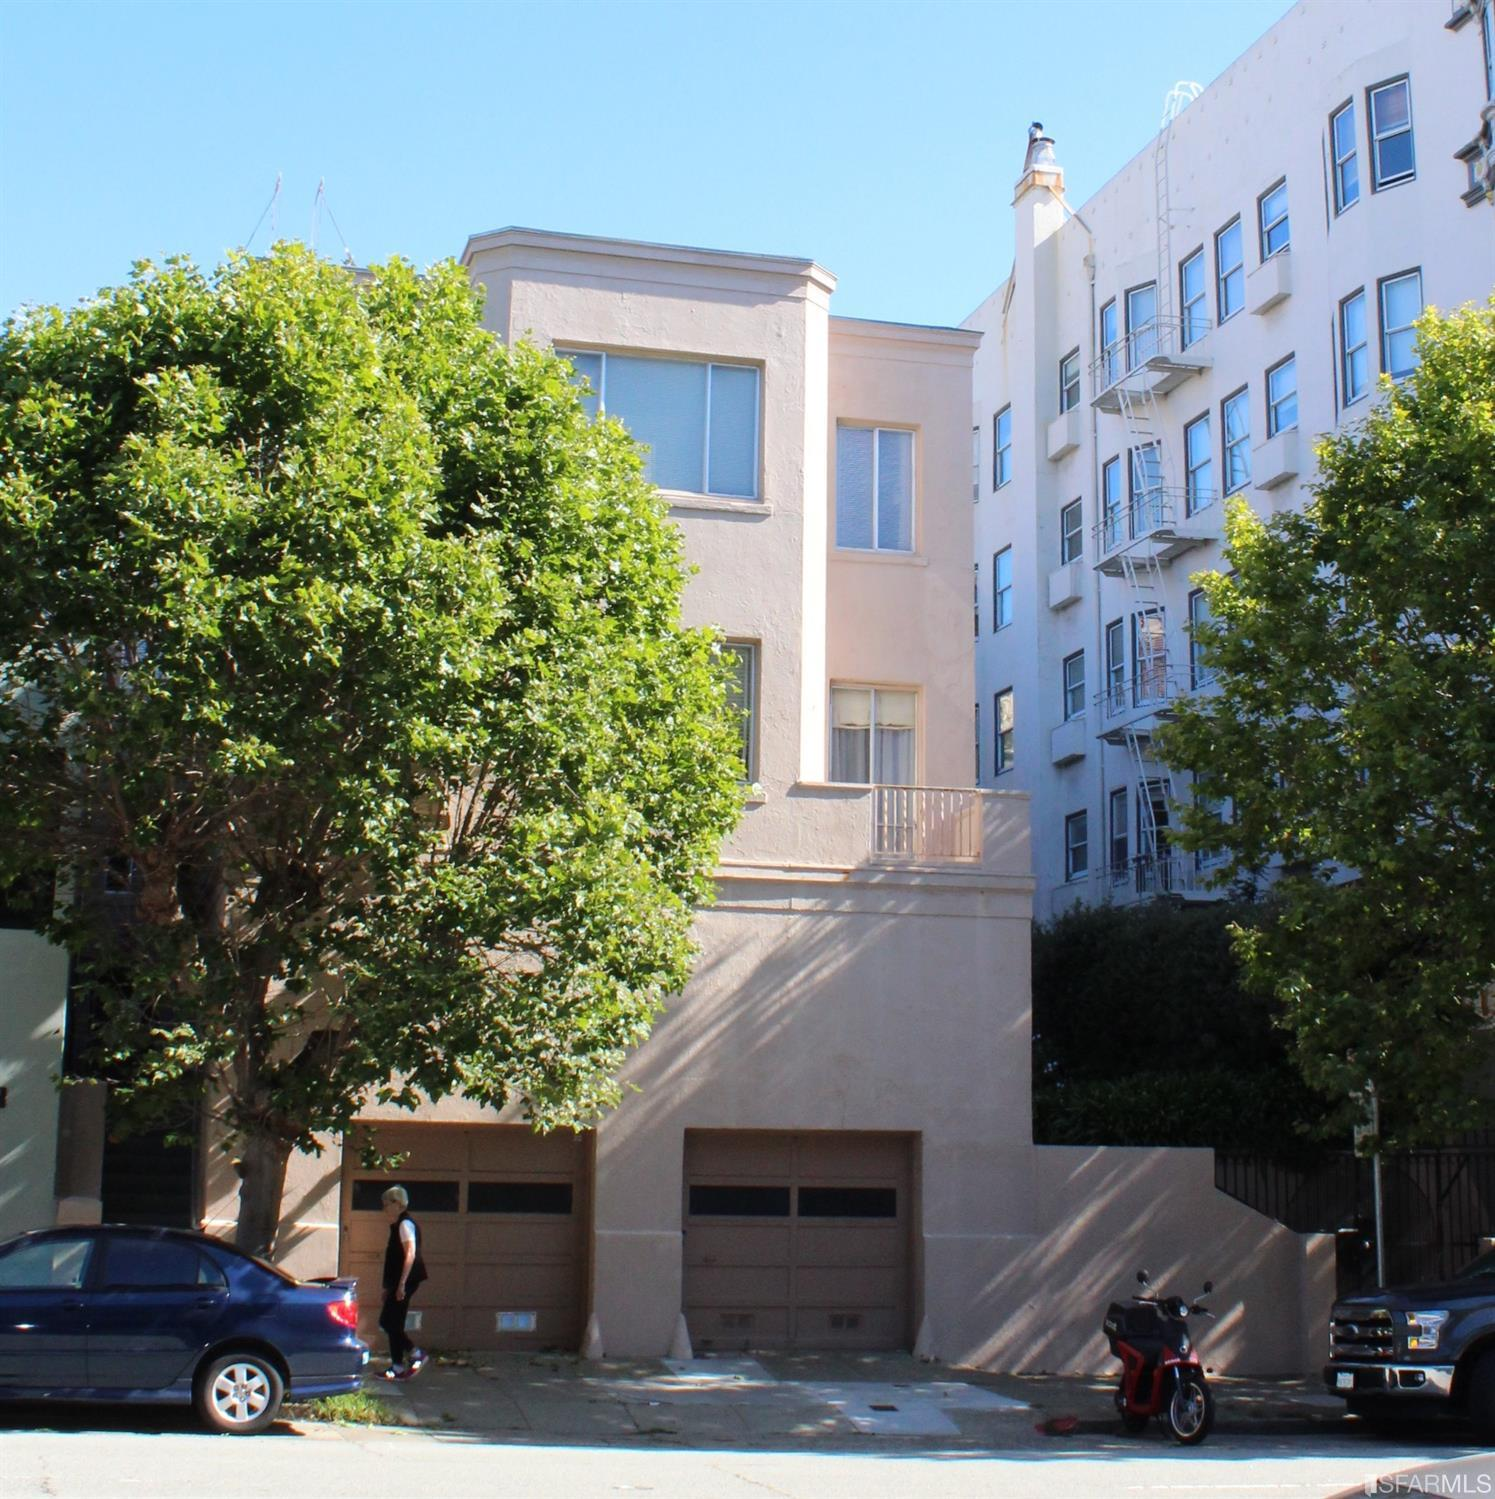tree: (1, 233, 743, 1266), (1140, 300, 1495, 1190)
